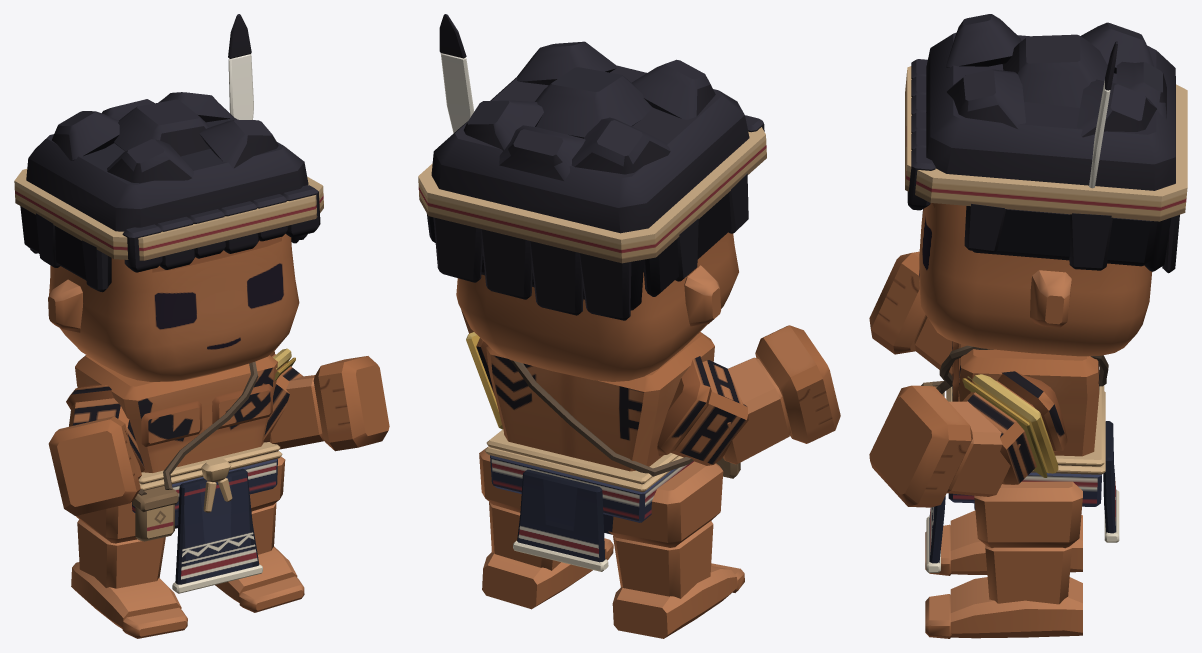
Rendered from audience_v2_young_man_clap.glb.
The picture shows the model from 3 angles, left to right: view 1: azimuth 30°, elevation 25°; view 2: azimuth 150°, elevation 25°; view 3: azimuth 270°, elevation 25°; orthographic projection. The views are drawn at different scales.
Parts seen in each view (by area): view 1: audience_v2_young_man_clap; view 2: audience_v2_young_man_clap; view 3: audience_v2_young_man_clap.
Part boxes in pixels (bbox=[...]): audience_v2_young_man_clap: bbox=[14, 14, 389, 638]; audience_v2_young_man_clap: bbox=[418, 14, 840, 638]; audience_v2_young_man_clap: bbox=[869, 14, 1187, 638].
Bounding box in the file's own units: 0.5097 × 0.7852 × 0.3717.
Materials: 1 (1 with a texture image).
